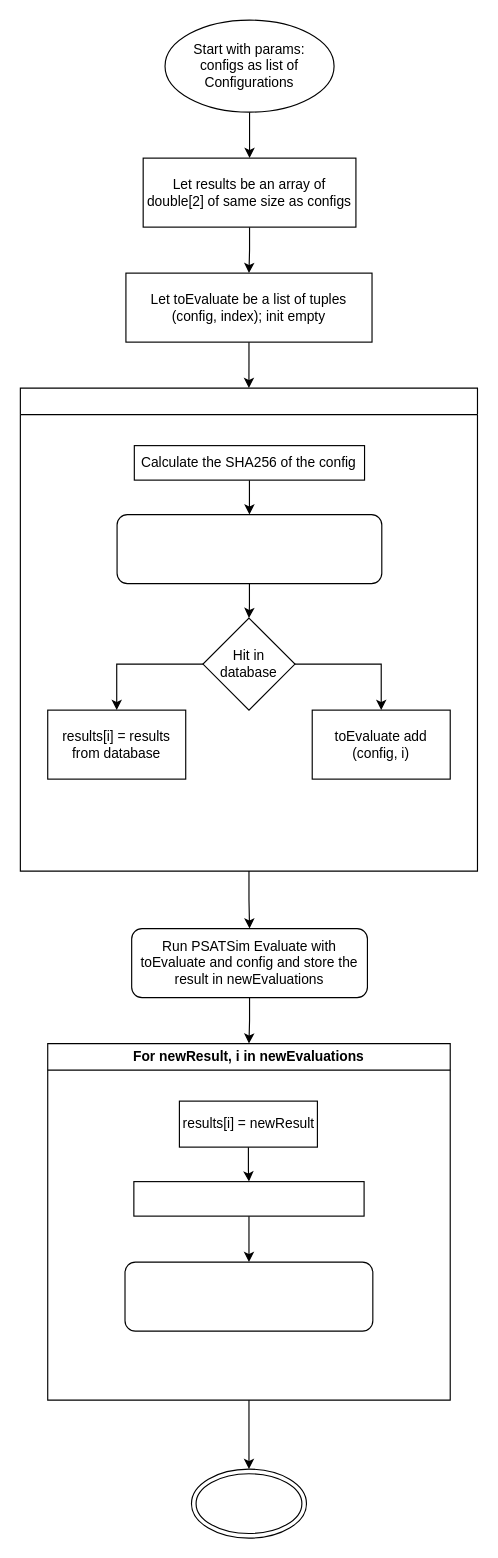
Image size: 498x1558. Some labels were removed from this diagram. The shapes that lost their labels are listed below. From the top down, each one's box as (x1, y1, x2, y2) in pixels, then its label:
(116, 513, 382, 584): Search in database for the hash of the config
(19, 387, 477, 871): for config, i in config
(133, 1180, 364, 1216): Calculate the SHA256 of the config[i]
(124, 1261, 373, 1331): Set in database a new entry for above hash to newResult
(190, 1468, 306, 1538): Return results
